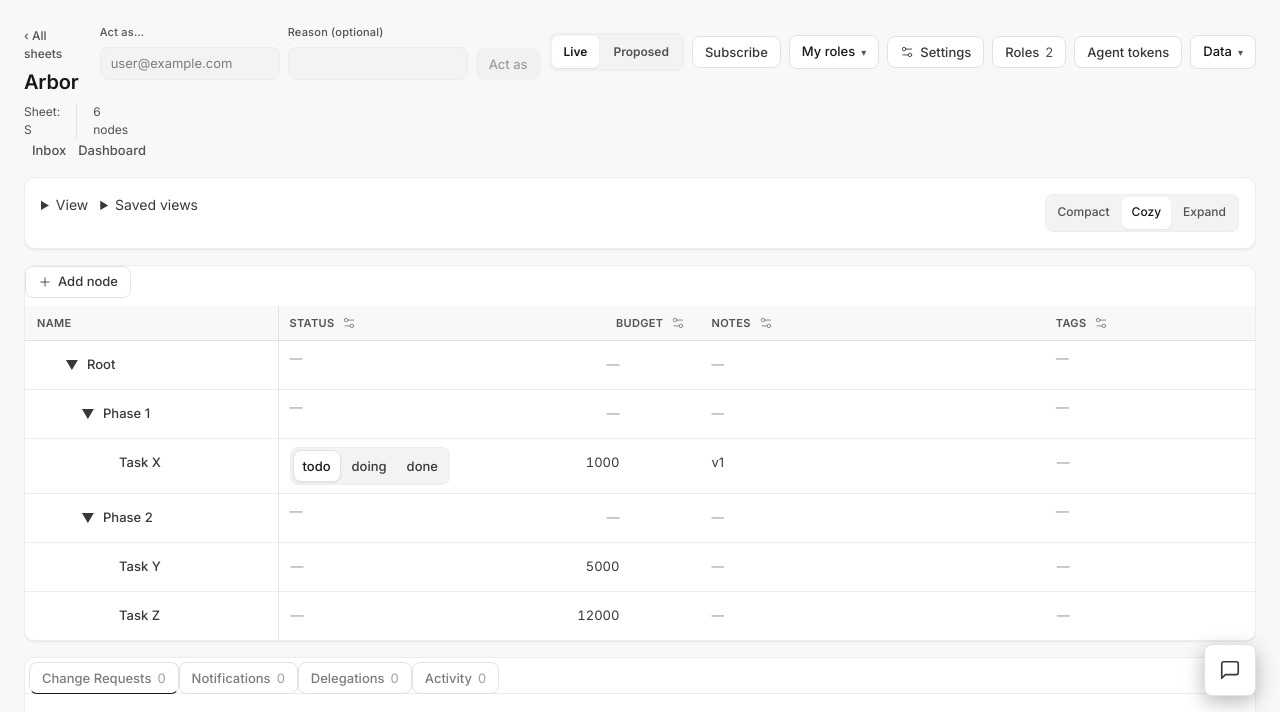
Test case: RolesModal — global header-launched admin Roles modal › opening the modal shows the applications inbox, grants, and assign form
Expected: the table with test id "tree-table" is shown, [25,306,1255,640]
Click the button with test id "roles-admin-button".
click(1029, 52)  # box [992,36,1066,68]
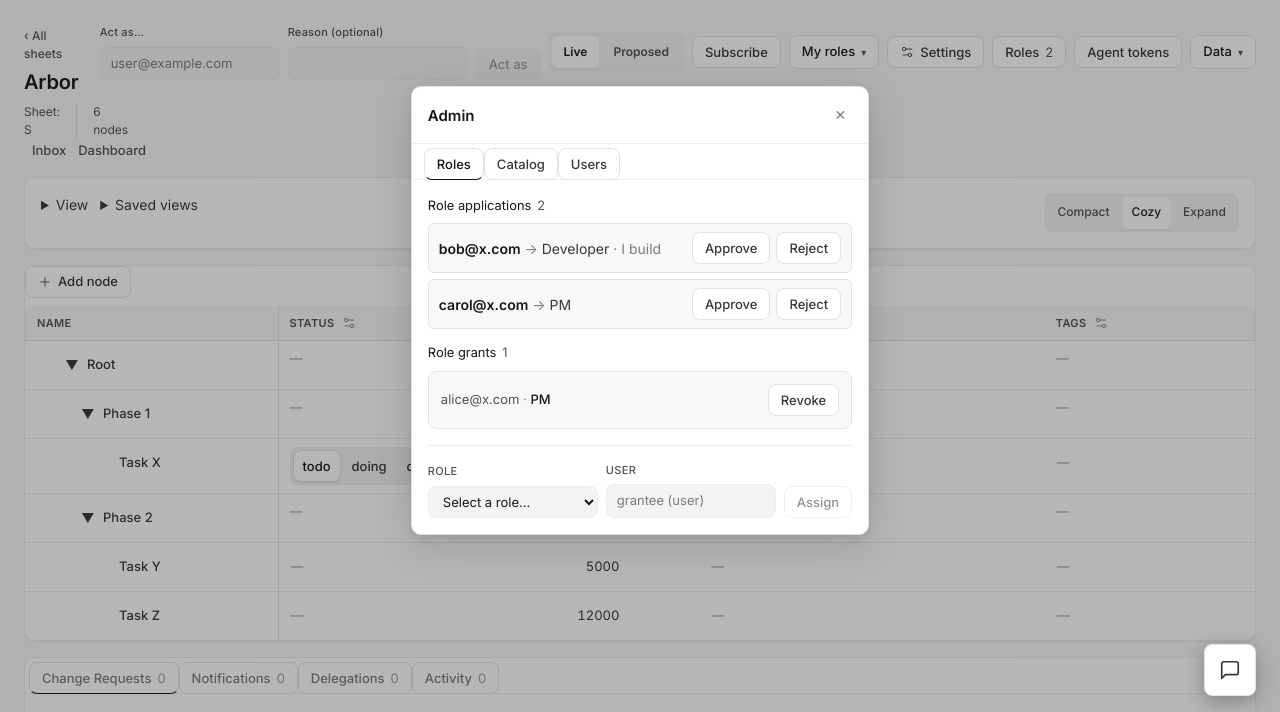
Result: the element with test id "roles-panel" is shown at [412,180,868,534]
Result: the list with test id "role-applications" is shown at [428,223,852,329]
Result: the list with test id "role-grants" is shown at [428,371,852,429]
